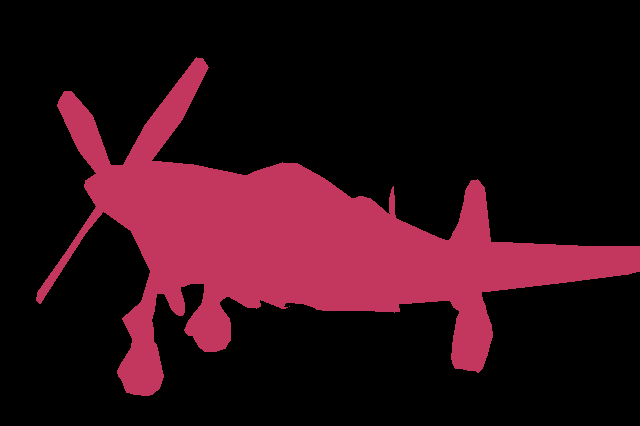Airplane: (36, 57, 640, 395)
